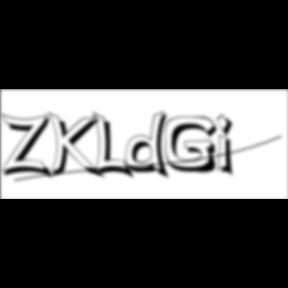G: (164, 116, 224, 176)
K: (48, 110, 107, 182)
L: (93, 110, 137, 182)
Z: (2, 112, 56, 181)
d: (125, 110, 175, 182)
i: (217, 112, 241, 180)
